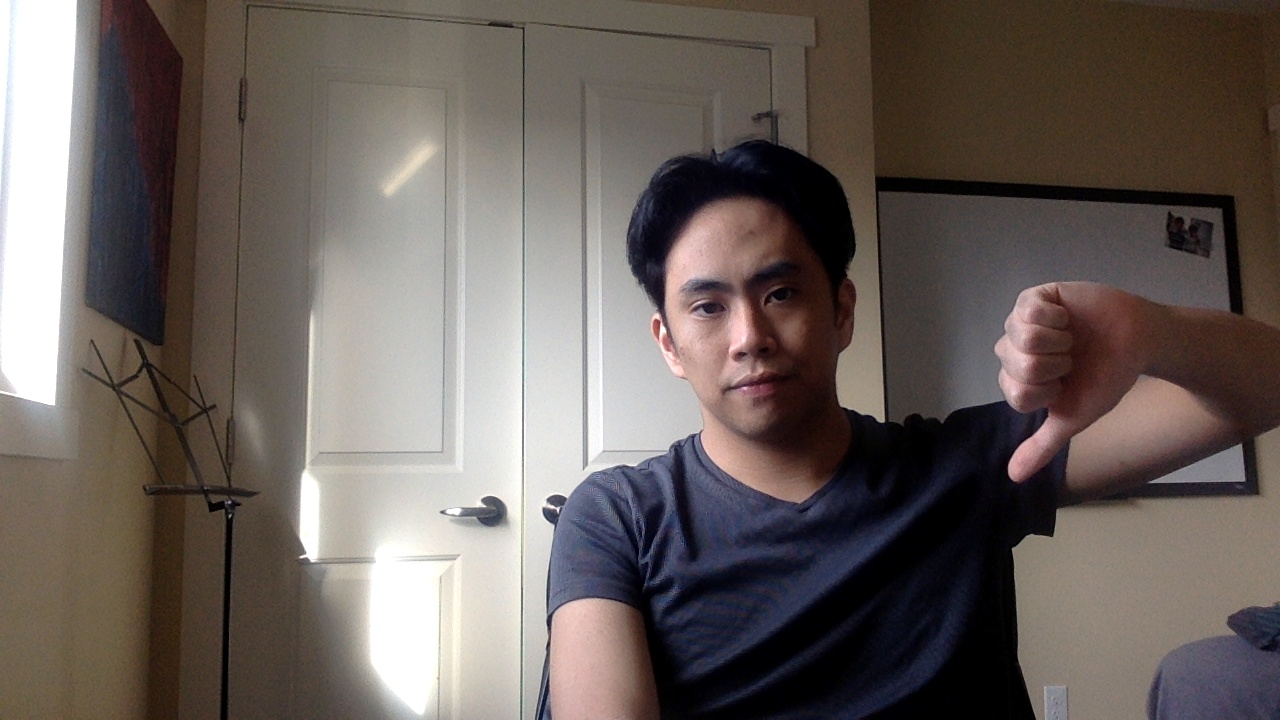ThumbsDown: (997, 281, 1141, 486)
